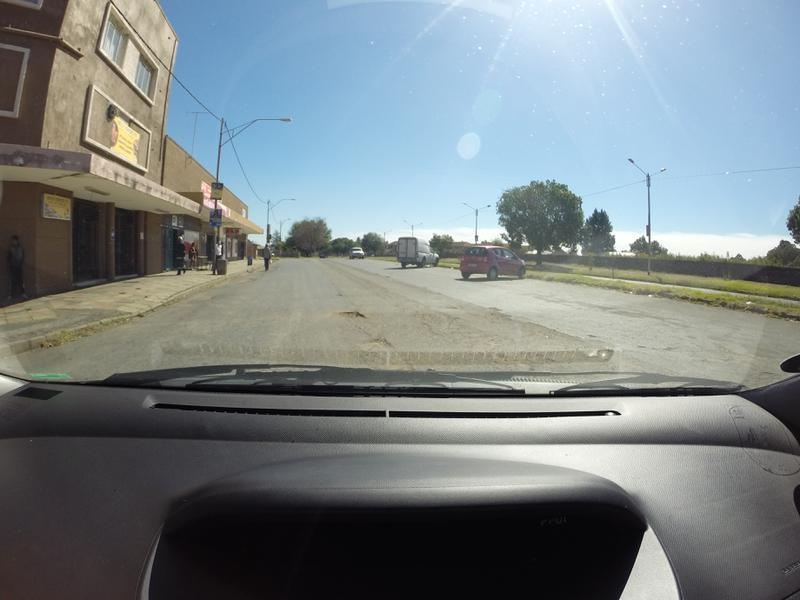pothole: (329, 331, 397, 351), (326, 304, 368, 321)
